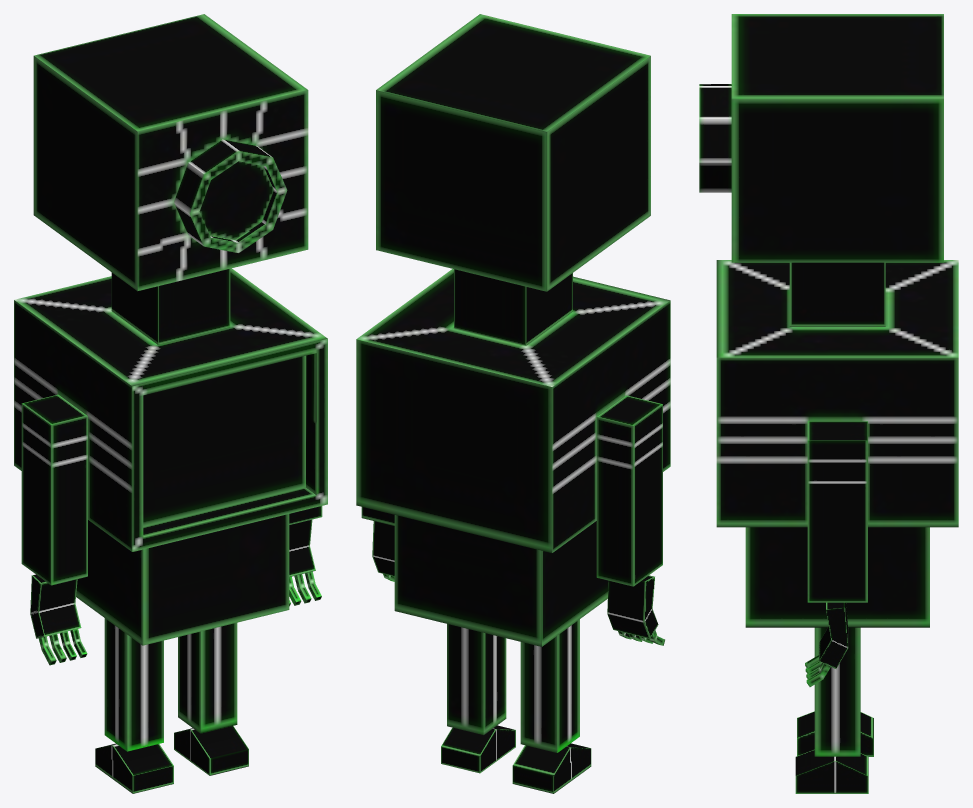
Rendered from WorkerRobot.FBX.
3 views of the same model, side by side, from view 1: azimuth 30°, elevation 25°; view 2: azimuth 150°, elevation 25°; view 3: azimuth 270°, elevation 25° (orthographic). The views are drawn at different scales.
Parts seen in each view (by area): view 1: Robot; view 2: Robot; view 3: Robot.
Part boxes in pixels (box(x1,y1,x2,y2)): Robot: box(14, 14, 327, 793); Robot: box(356, 14, 670, 793); Robot: box(699, 14, 958, 793).
Bounding box in the file's own units: 10.25 × 24.92 × 8.27.
Materials: 1 (1 with a texture image).
